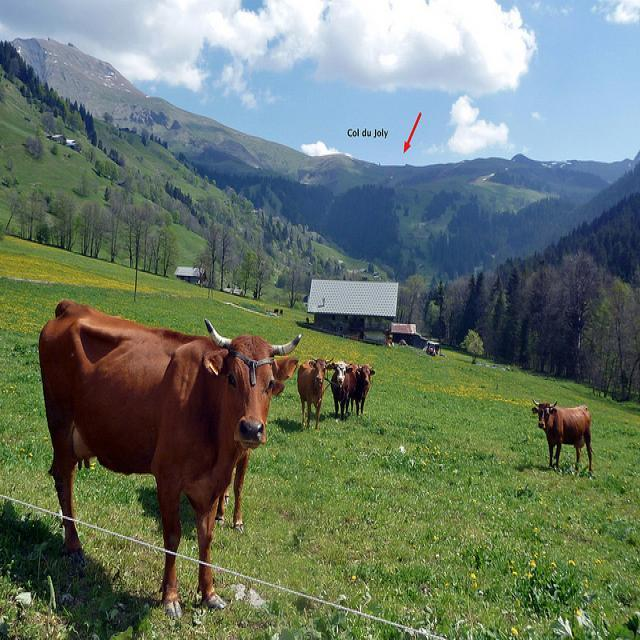cow: (39, 302, 303, 618), (530, 395, 591, 469), (296, 355, 332, 428), (216, 459, 247, 531), (325, 360, 358, 417), (353, 360, 374, 413), (279, 308, 282, 313)
